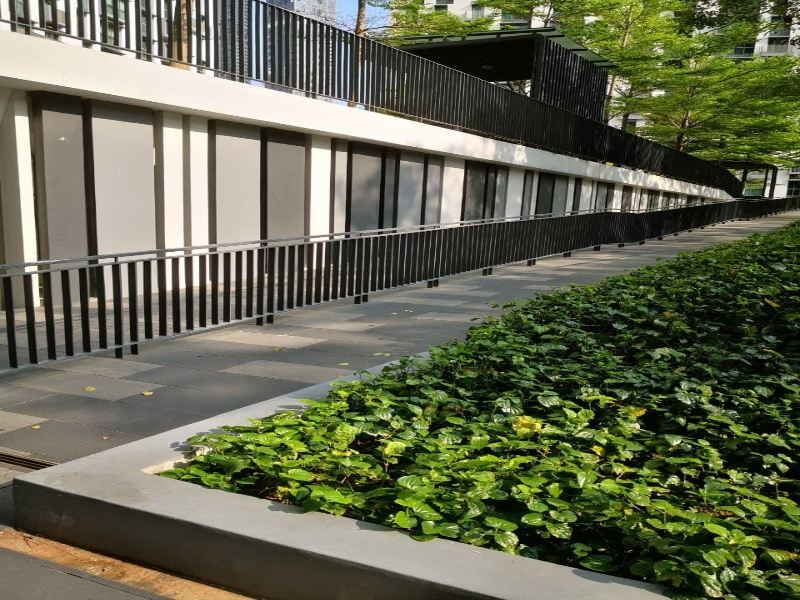slope: (29, 204, 731, 461)
